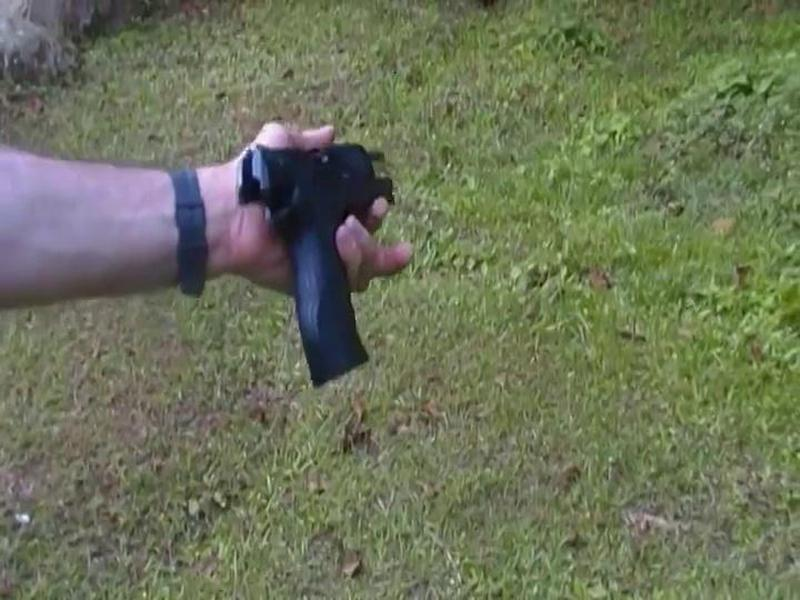Pistola: (218, 122, 425, 404)
